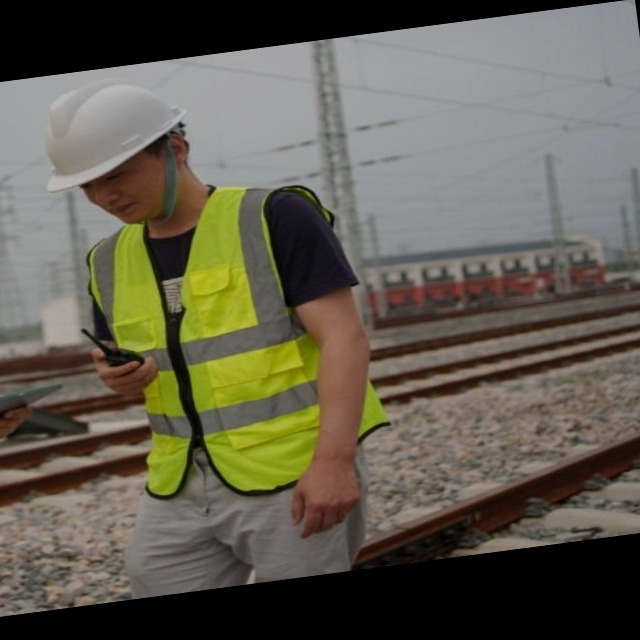Con_Casco: (32, 68, 204, 232)
Con_Chaleco: (86, 185, 353, 503)
